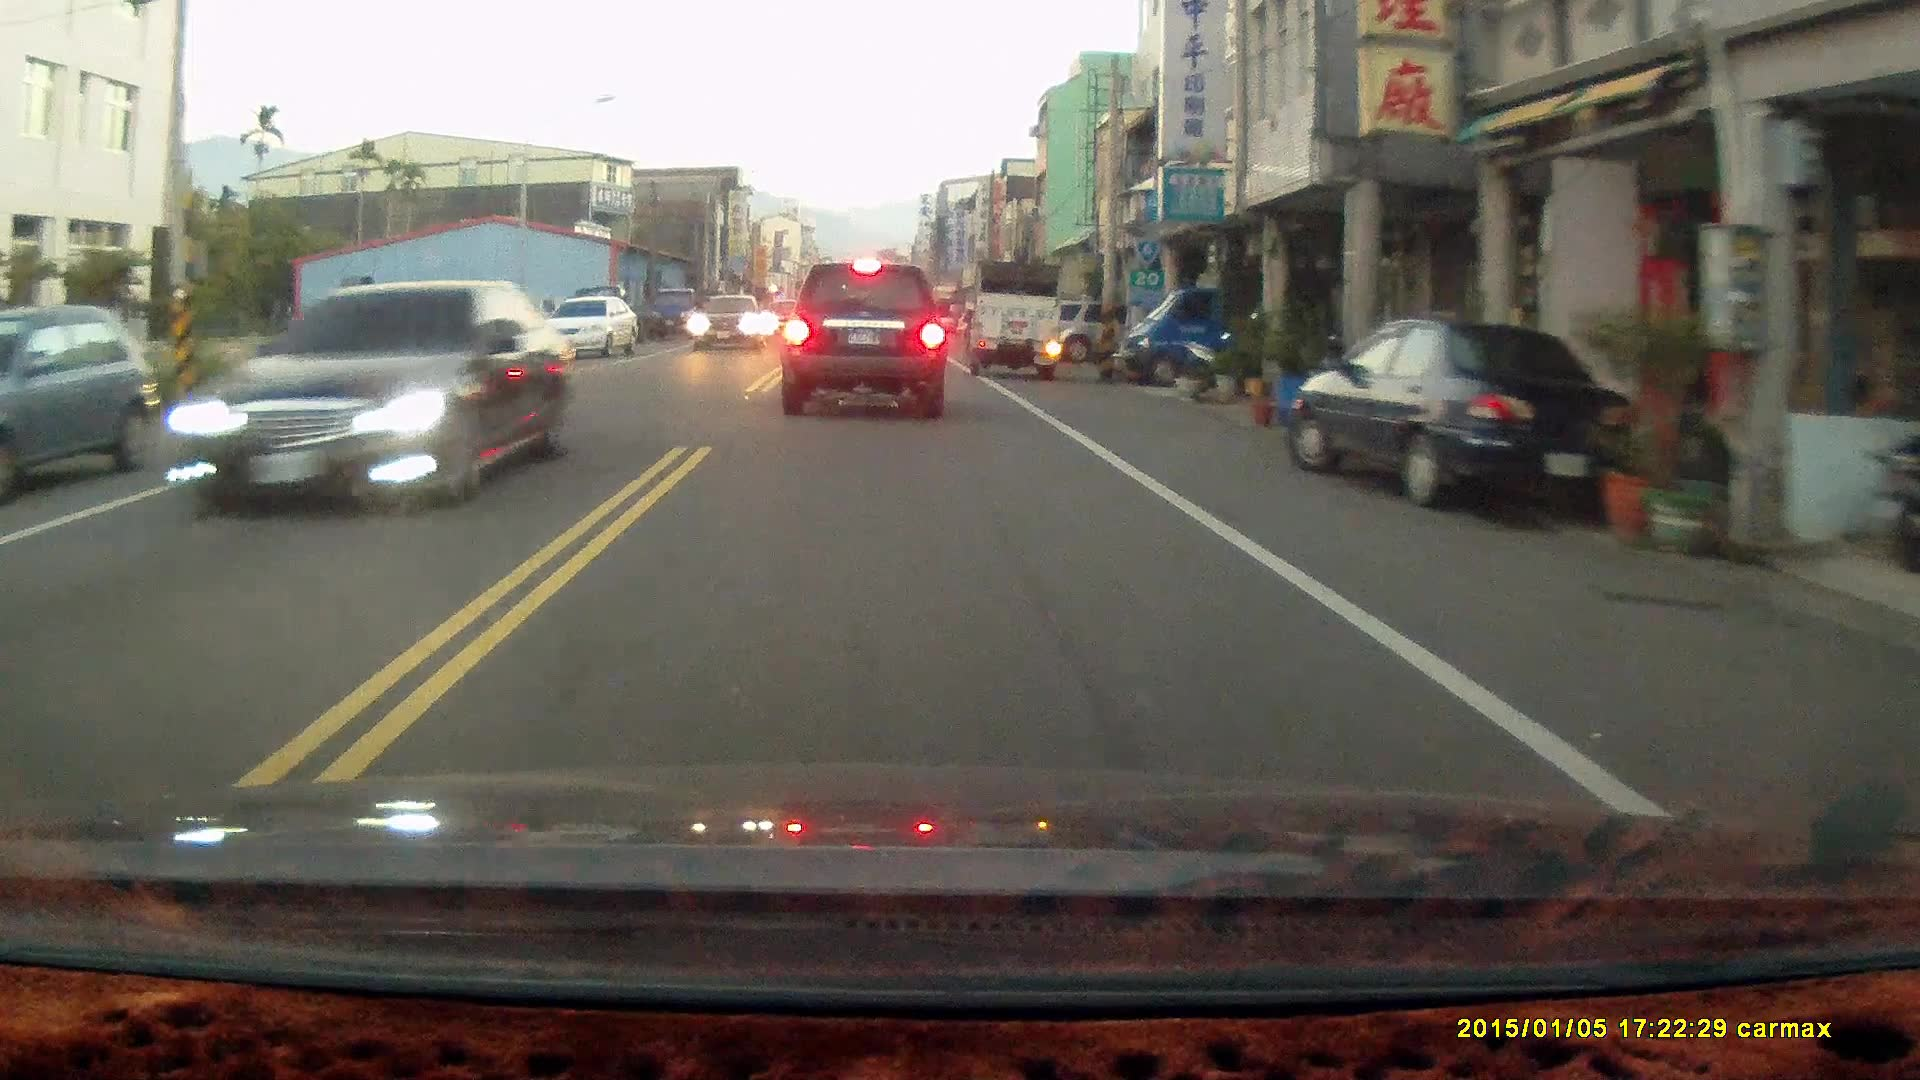vehicle: (166, 280, 572, 518), (1283, 316, 1654, 517), (1, 305, 160, 504), (783, 257, 948, 415), (1113, 264, 1265, 385), (968, 257, 1065, 375), (539, 291, 641, 359), (695, 294, 771, 349), (646, 282, 705, 338)
